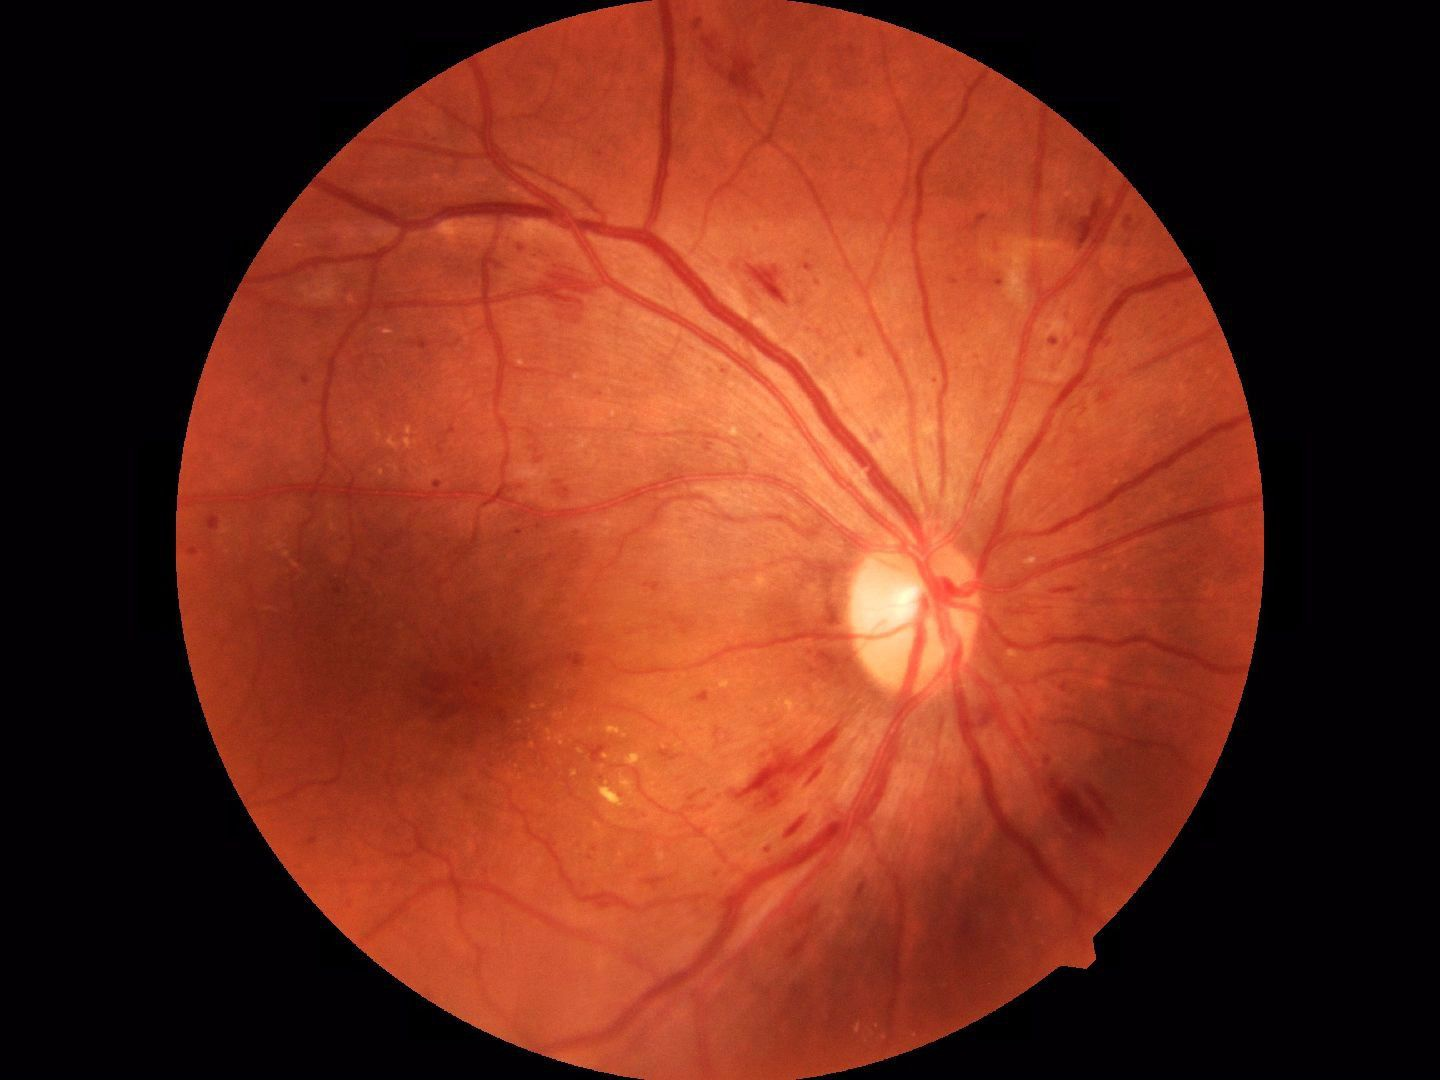Exudates: (576, 717, 651, 810)
Hemorrhages: (277, 518, 528, 757)
Microaneurysms: (746, 734, 835, 816), (1062, 769, 1141, 827)
Optic-Disc: (857, 530, 992, 694)
Venules: (405, 199, 713, 271)
